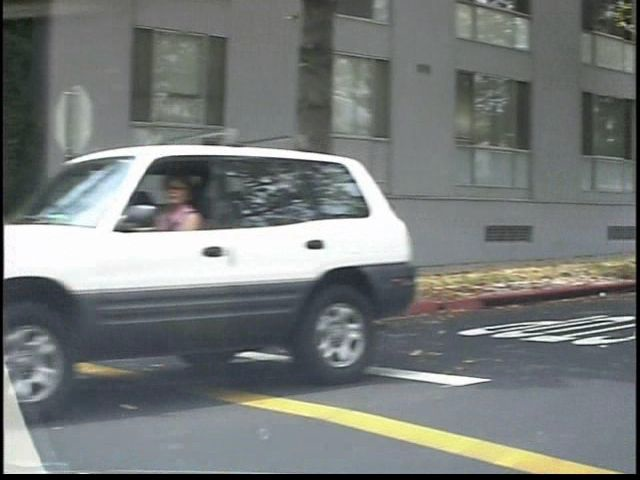person: (160, 163, 255, 404)
